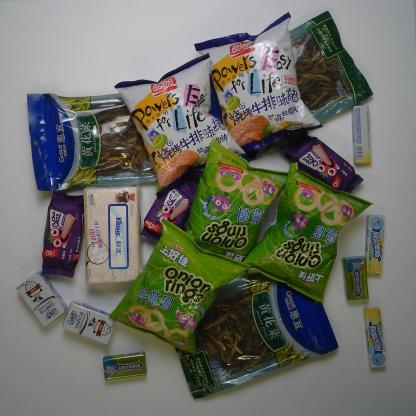Candy: (346, 101, 374, 168), (360, 306, 388, 370), (364, 213, 386, 276)
Dessert: (277, 129, 366, 199), (139, 164, 208, 248), (36, 185, 91, 280)
Dried Food: (171, 267, 343, 404), (23, 86, 172, 195), (273, 8, 375, 128)
Gum: (100, 350, 150, 383), (340, 254, 371, 302)
Milk: (13, 267, 70, 330), (60, 298, 119, 346)
Puffed Food: (112, 51, 252, 203), (106, 215, 254, 357), (238, 160, 379, 306), (191, 9, 325, 160), (181, 136, 294, 264)
Tissue: (79, 181, 149, 290)
